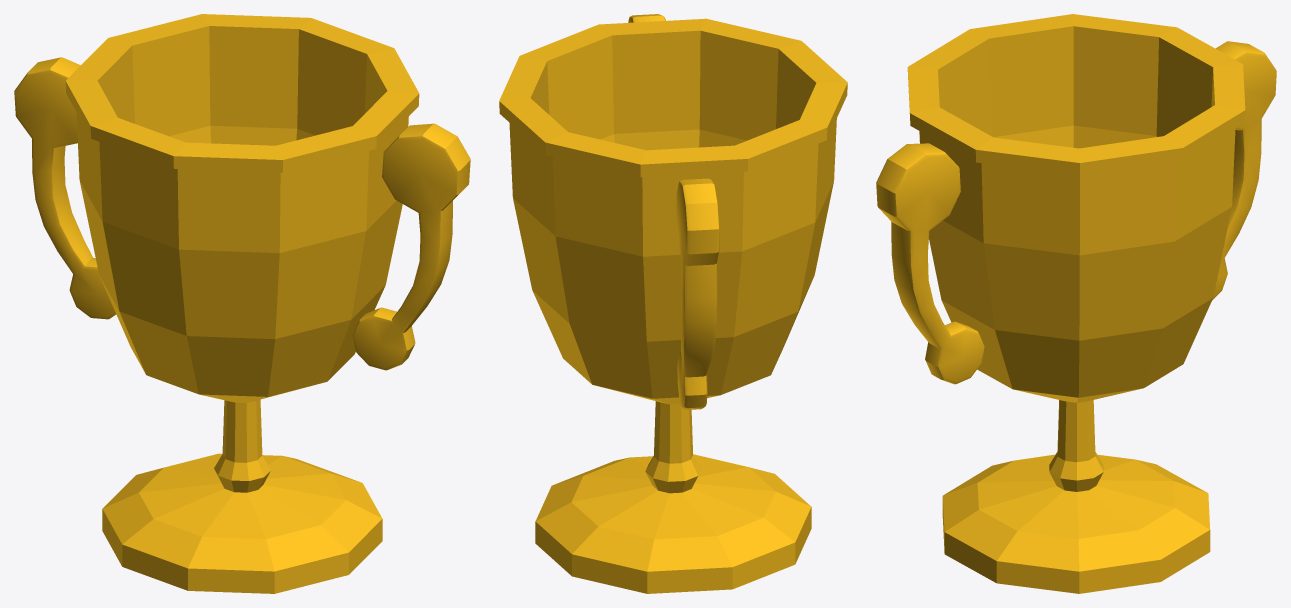
Rendered from trophee.FBX.
3 views of the same model, side by side, from view 1: azimuth 30°, elevation 25°; view 2: azimuth 150°, elevation 25°; view 3: azimuth 270°, elevation 25° (orthographic).
Visible parts, largest first — view 1: uploads_files_818835_trophy; view 2: uploads_files_818835_trophy; view 3: uploads_files_818835_trophy.
Part boxes in pixels (<box>): uploads_files_818835_trophy: <box>14,14,470,593</box>; uploads_files_818835_trophy: <box>499,14,847,593</box>; uploads_files_818835_trophy: <box>876,14,1276,593</box>.
Bounding box in the file's own units: 54.2 × 61.57 × 75.88.
